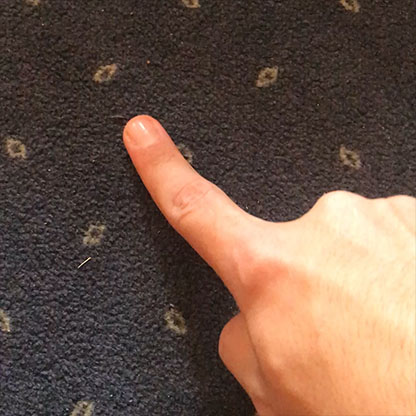fingertip: (110, 111, 174, 158)
